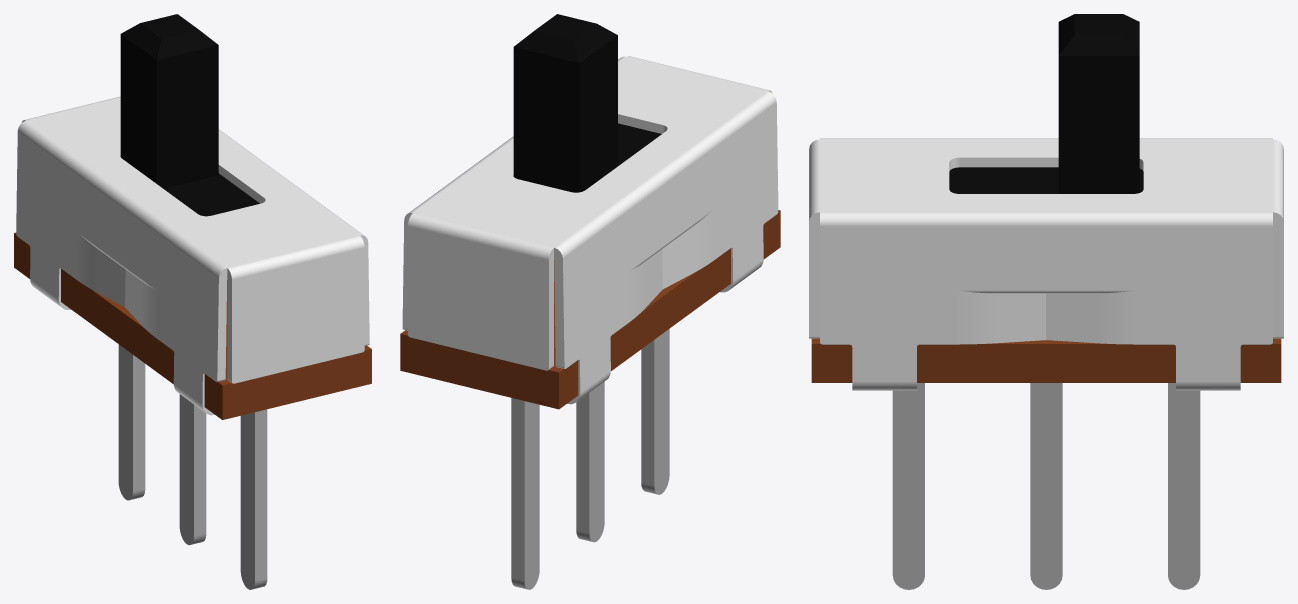
The model's file is switch_slide_onoff_SS12D00.glb.
3 views of the same model, side by side, from view 1: azimuth 30°, elevation 25°; view 2: azimuth 150°, elevation 25°; view 3: azimuth 270°, elevation 25° (orthographic). The views are drawn at different scales.
Visible parts, largest first — view 1: Solid9, Solid10, Solid7, Solid1; view 2: Solid9, Solid10, Solid7, Solid1; view 3: Solid9, Solid7, Solid10, Solid1.
Part boxes in pixels (x1,y1,x2,y2): Solid9: [16, 96, 369, 415]; Solid10: [120, 14, 259, 216]; Solid7: [118, 344, 267, 589]; Solid1: [14, 232, 371, 419]; Solid9: [402, 56, 778, 404]; Solid10: [513, 14, 661, 192]; Solid7: [511, 329, 669, 589]; Solid1: [400, 210, 780, 409]; Solid9: [809, 138, 1283, 390]; Solid7: [892, 383, 1200, 589]; Solid10: [949, 14, 1143, 193]; Solid1: [811, 338, 1281, 382].
Bounding box in the file's own units: 0.0037 × 0.0115 × 0.0088.
